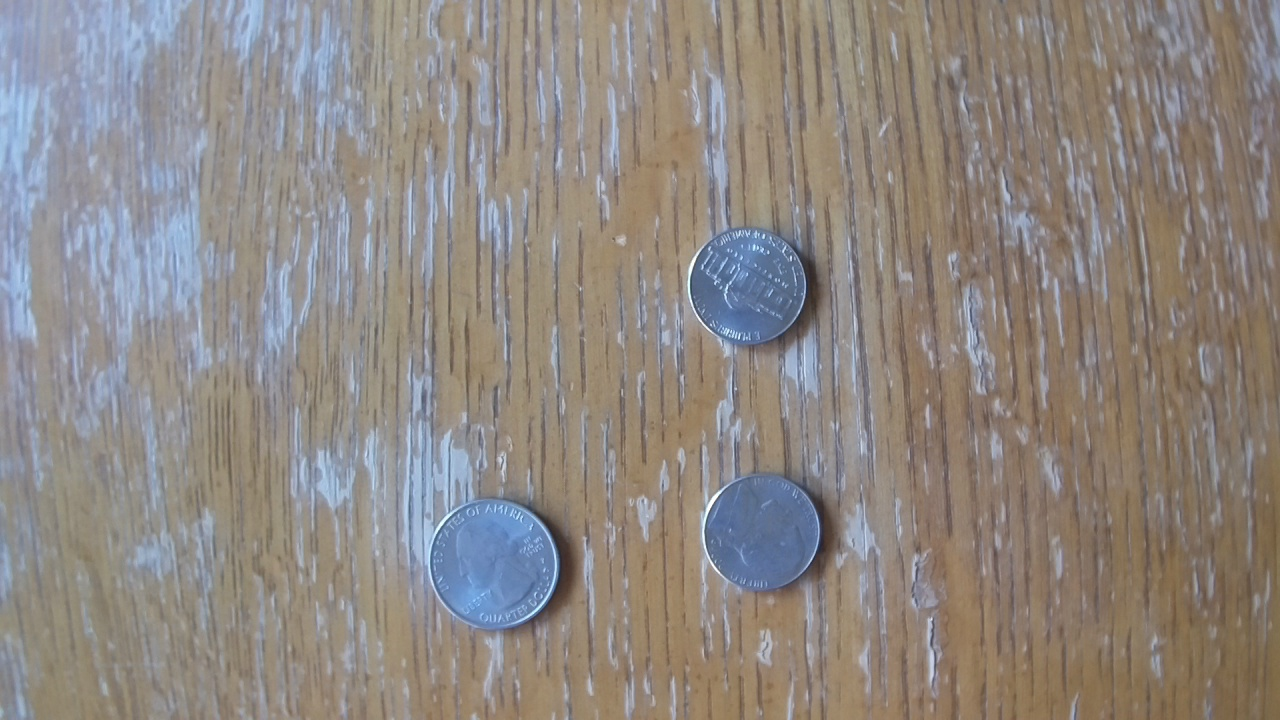dime: (702, 468, 826, 596)
nickel: (684, 226, 816, 348)
quarter: (425, 493, 567, 633)
